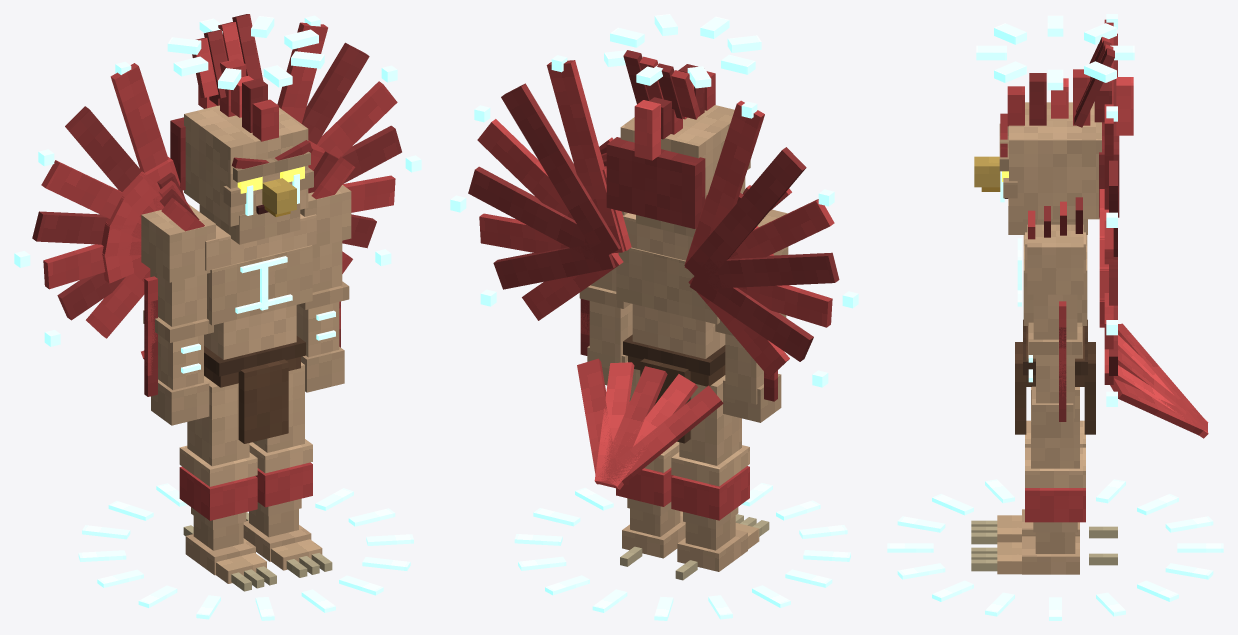
The model's file is harpy_base_v2_evo3.glb.
3 renders of one model, left to right at view 1: azimuth 30°, elevation 25°; view 2: azimuth 150°, elevation 25°; view 3: azimuth 270°, elevation 25°, orthographic.
Visible parts, largest first — view 1: Torso, Head, ArmR, LegR, ArmL, LegL, Root; view 2: Torso, Head, LegR, Root, LegL, ArmR, ArmL; view 3: Head, Torso, ArmL, LegL, Root, LegR.
Boxes of the visible parts, bbox=[...] form: Torso: bbox=[14, 15, 421, 443]; Head: bbox=[167, 14, 324, 244]; ArmR: bbox=[141, 172, 215, 425]; LegR: bbox=[179, 376, 266, 583]; ArmL: bbox=[296, 147, 355, 392]; LegL: bbox=[243, 362, 322, 570]; Root: bbox=[78, 483, 413, 620]; Torso: bbox=[450, 55, 858, 489]; Head: bbox=[604, 14, 761, 236]; LegR: bbox=[671, 375, 759, 571]; Root: bbox=[514, 483, 850, 620]; LegL: bbox=[616, 361, 685, 558]; ArmR: bbox=[715, 185, 791, 422]; ArmL: bbox=[579, 137, 632, 385]; Head: bbox=[974, 15, 1134, 234]; Torso: bbox=[1015, 14, 1208, 438]; ArmL: bbox=[1027, 197, 1083, 437]; LegL: bbox=[997, 387, 1085, 574]; Root: bbox=[887, 479, 1223, 620]; LegR: bbox=[997, 420, 1085, 542].
Bounding box in the file's own units: 1.6 × 1.94 × 1.16.
Materials: 25 (25 with a texture image).
